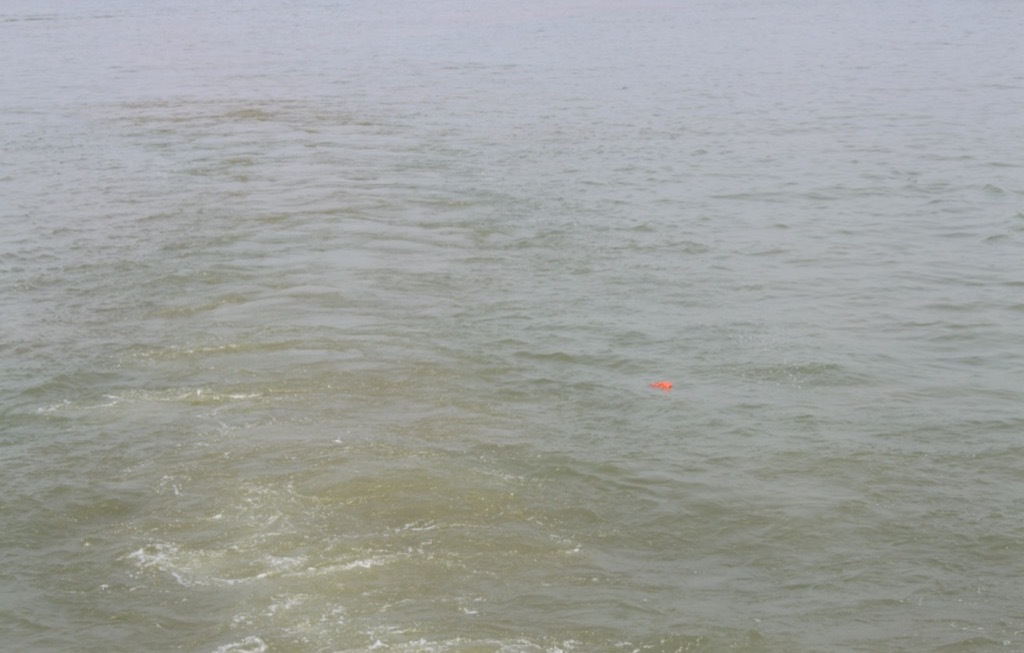plastic: (646, 373, 683, 401)
